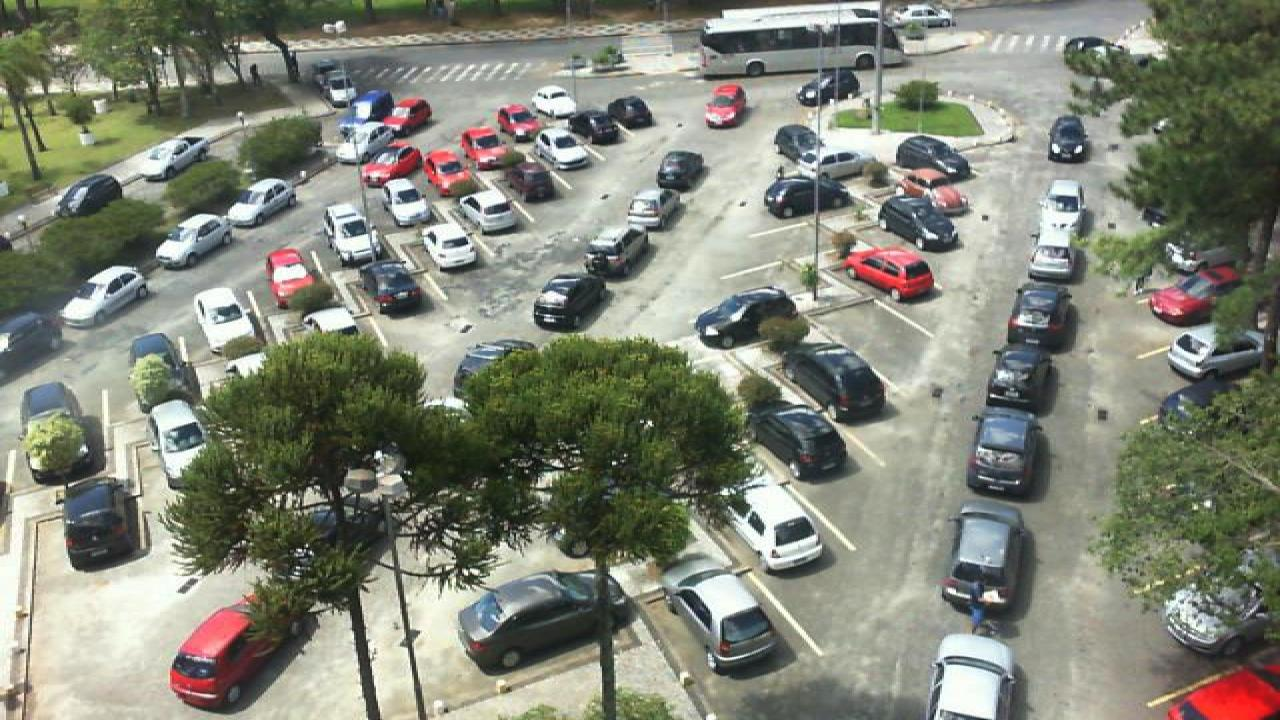Car: (456, 566, 636, 672), (166, 593, 304, 709), (656, 551, 784, 675), (1160, 567, 1278, 657), (938, 504, 1028, 614), (724, 480, 824, 572), (782, 341, 888, 423), (748, 400, 848, 481), (928, 632, 1018, 720), (62, 478, 146, 570), (962, 412, 1042, 500), (694, 287, 802, 349), (20, 380, 92, 470), (1166, 324, 1272, 382), (1146, 264, 1244, 324), (146, 398, 212, 487), (58, 264, 150, 326), (844, 245, 940, 303), (984, 346, 1058, 417), (196, 287, 266, 360), (454, 338, 536, 399), (878, 196, 962, 252), (534, 272, 608, 331), (1004, 284, 1072, 348), (156, 216, 232, 269), (764, 176, 854, 220), (122, 134, 206, 181), (224, 176, 298, 228), (890, 169, 970, 217), (894, 134, 972, 183), (360, 256, 424, 314), (324, 202, 380, 266), (584, 225, 650, 278), (266, 248, 322, 310), (786, 148, 870, 185), (362, 143, 424, 190), (56, 174, 122, 218), (338, 118, 400, 164), (424, 224, 482, 273), (1028, 228, 1082, 280), (1038, 179, 1088, 234), (130, 332, 178, 388), (302, 306, 366, 348), (422, 148, 476, 197), (460, 190, 518, 234), (382, 177, 432, 227), (798, 69, 862, 108), (460, 120, 512, 166), (504, 158, 556, 202), (772, 122, 824, 166), (538, 131, 594, 171), (700, 84, 750, 128), (312, 57, 356, 106), (624, 191, 676, 232), (1046, 116, 1090, 163), (494, 101, 542, 144), (570, 109, 624, 145), (656, 150, 704, 190), (380, 99, 432, 134), (604, 94, 654, 130), (346, 89, 392, 125), (892, 2, 958, 27), (532, 84, 578, 118)
